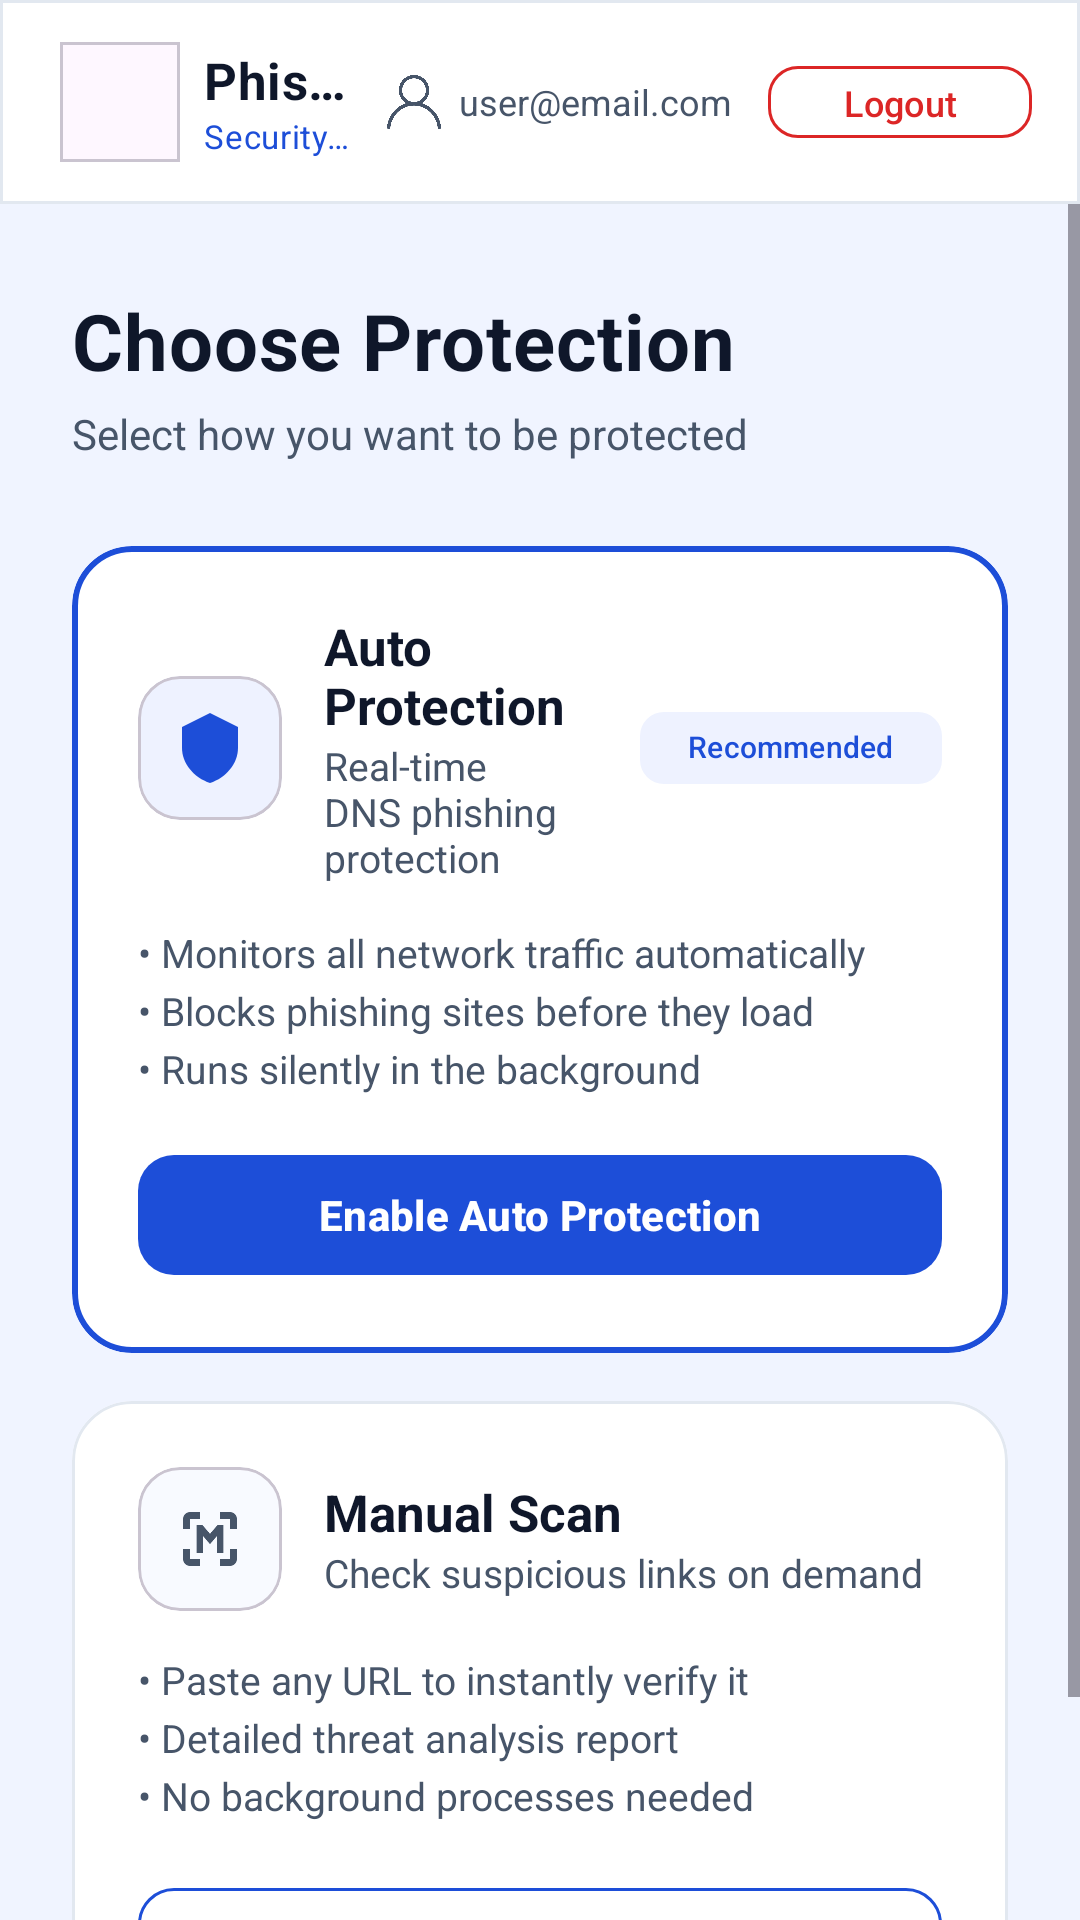

Icon click points for this 1080 × 1920 phone screenshot, format (x,y):
shield auto: (210,748)
